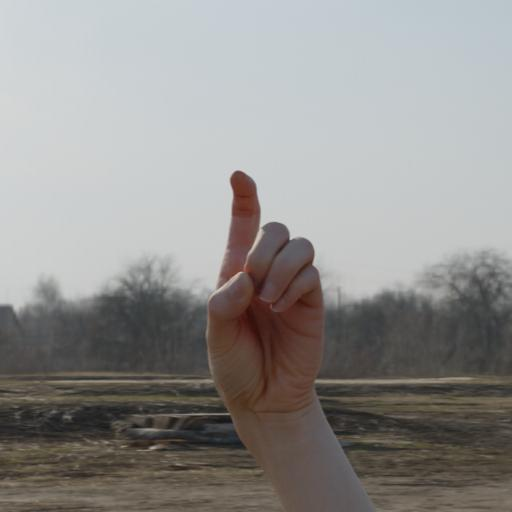X: (185, 163, 357, 418)
